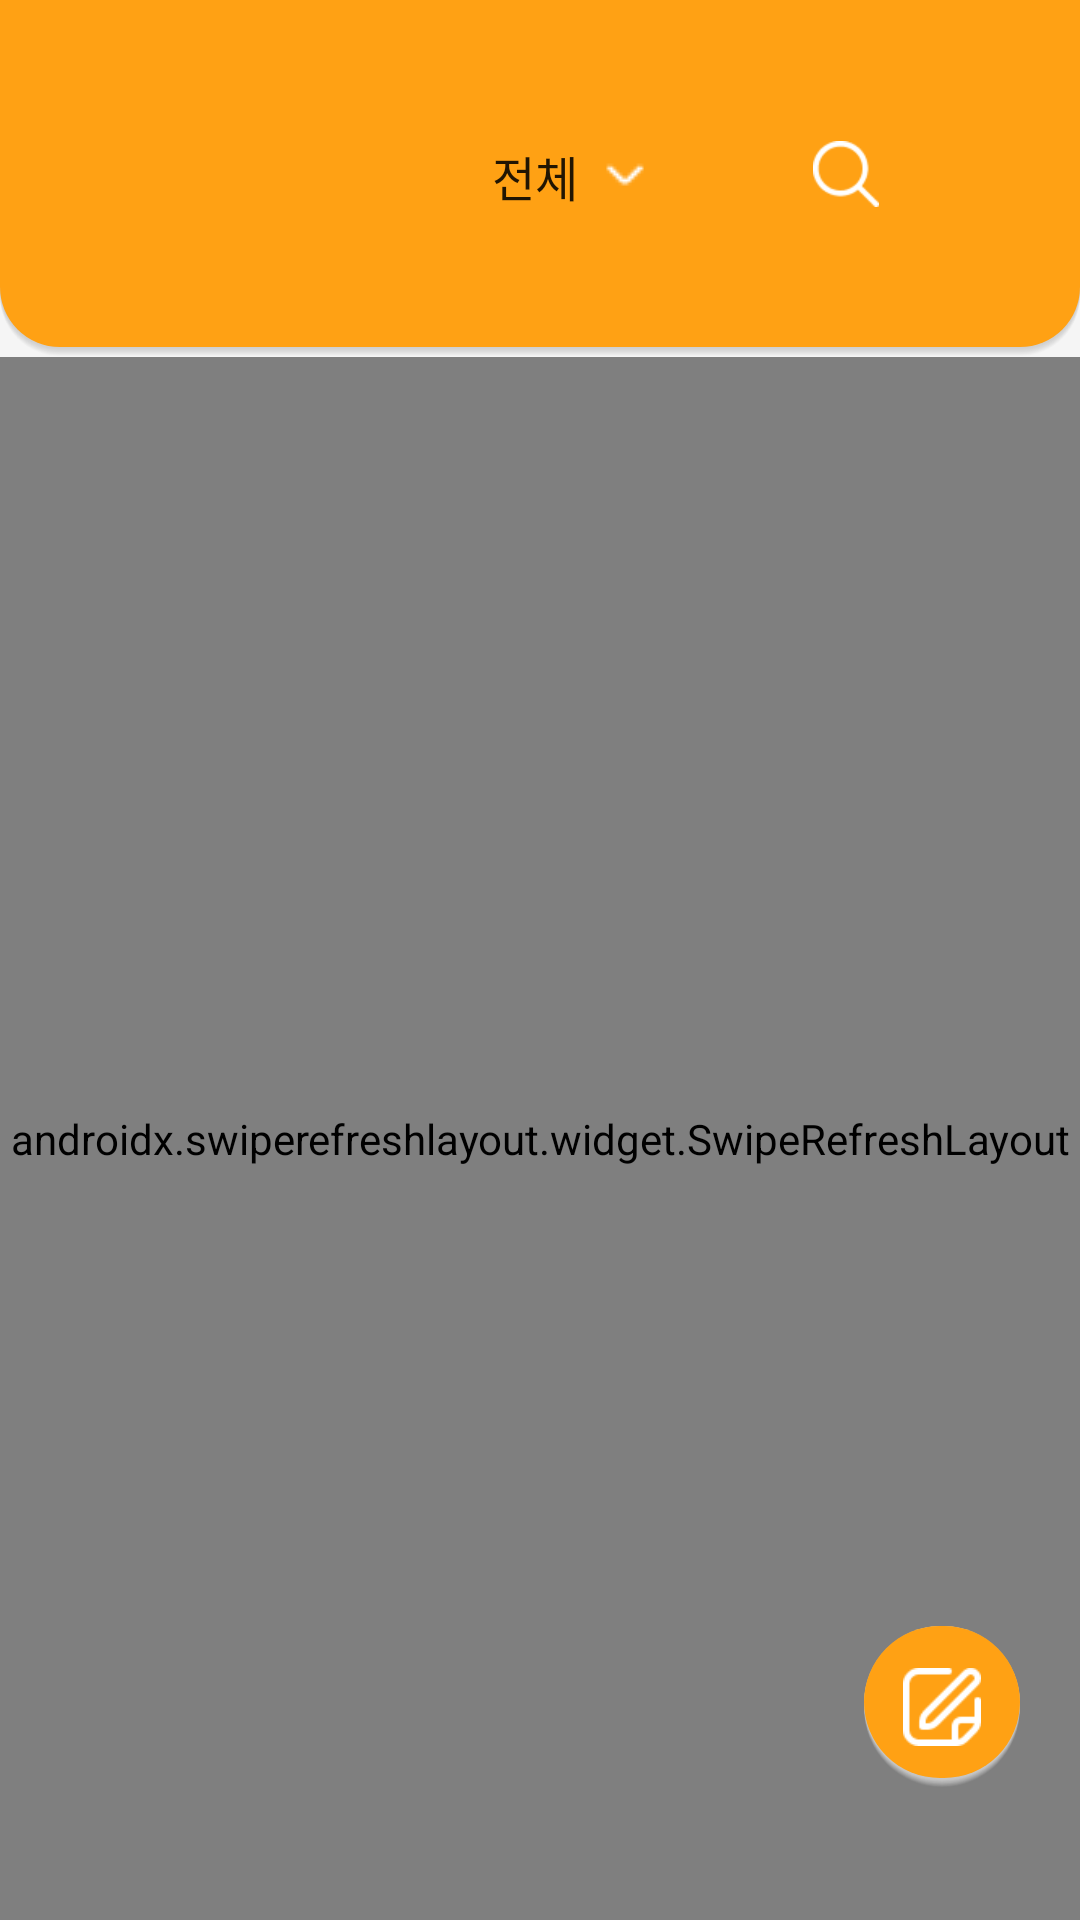

Named icons in this screenshot (1080px×1920px) and their bounding boxes, [left=x1, top=y1, right=x2, bottom=y2]:
comm search: [left=813, top=141, right=879, bottom=207]
comm write: [left=864, top=1626, right=1020, bottom=1785]
comm write spinner: [left=606, top=164, right=644, bottom=186]
